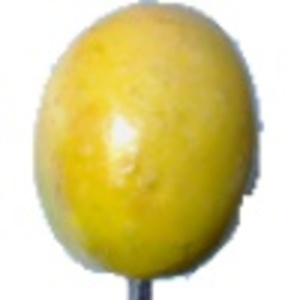maracujá: (31, 1, 266, 300)
